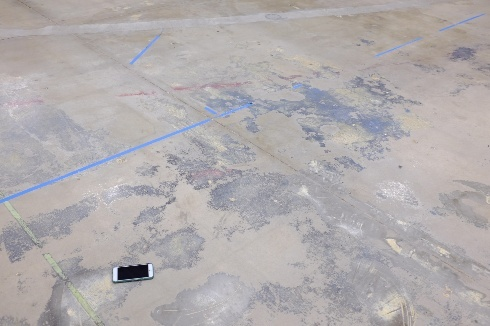phone: (108, 256, 157, 288)
